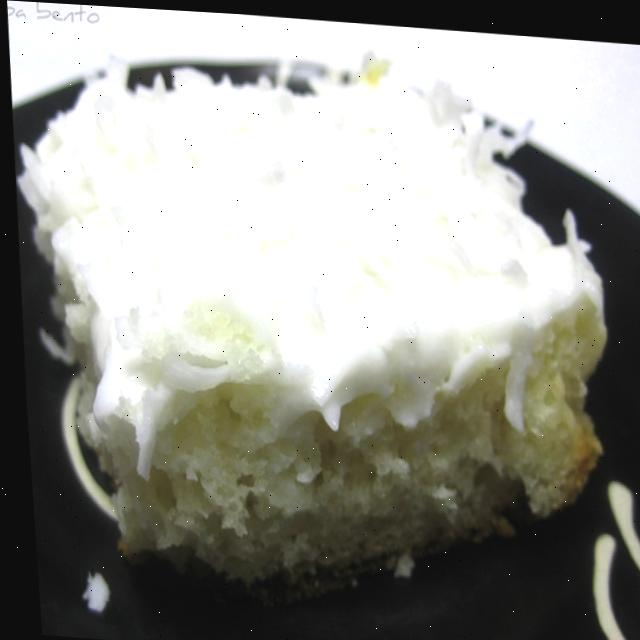蛋糕甜品: (1, 17, 629, 599)
